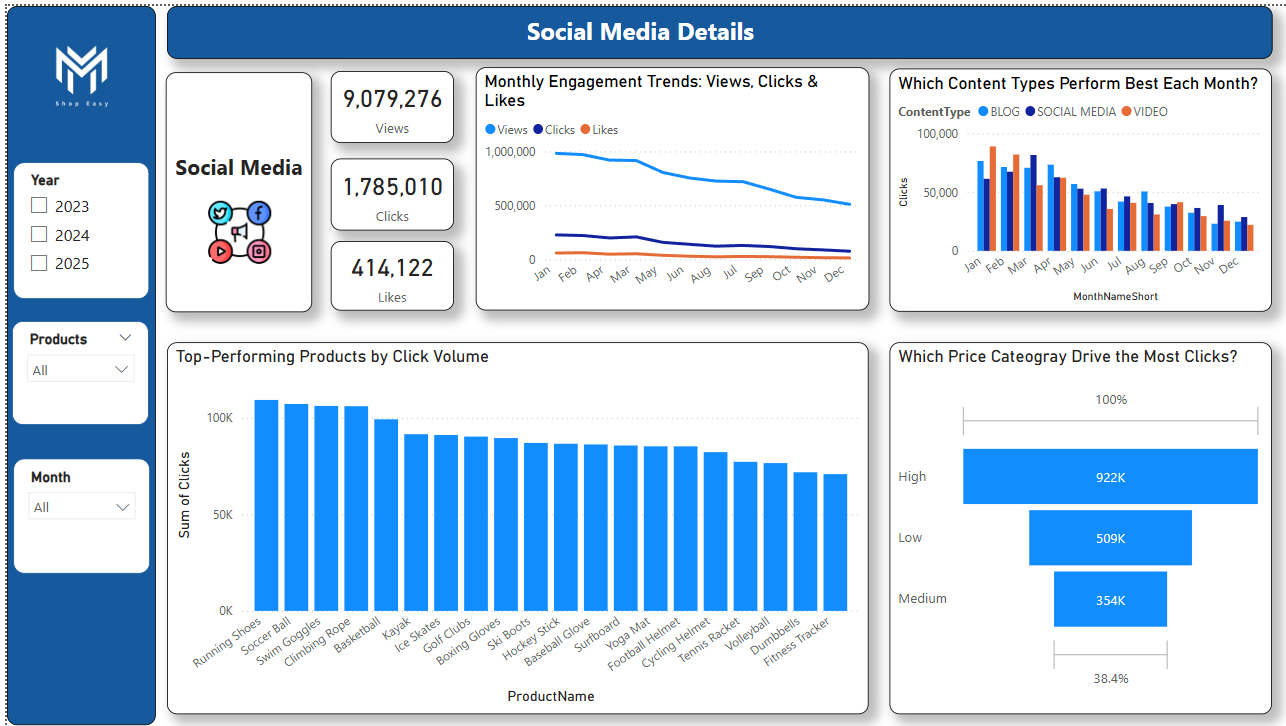

The page's visual inventory and layout, read from the dashboard file:
{"tool":"powerbi","page":{"name":"Social Media Details ","canvas":[1280,720],"ordinal":2},"visuals":[{"type":"textbox","box":[160.2,0,1105.4,52.6],"z":0},{"type":"lineChart","title":"Monthly Engagement Trends: Views, Clicks & Likes","fields":{"Category":["Calendar.MonthNameShort"],"Y":["Calculations.Views","Calculations.Clicks","Calculations.Likes"]},"box":[468.3,61.1,393.8,243.3],"z":1000},{"type":"card","fields":{"Values":["Calculations.Views"]},"box":[324.1,64.8,123.5,72.1],"z":2000},{"type":"textbox","box":[159,66,146.7,239.7],"z":3000},{"type":"card","fields":{"Values":["Calculations.Clicks"]},"box":[324.1,152.9,123.5,72.1],"z":4000},{"type":"card","fields":{"Values":["Calculations.Likes"]},"box":[324.1,234.8,123.5,69.7],"z":5000},{"type":"clusteredColumnChart","title":"Which Content Types Perform Best Each Month?","fields":{"Category":["Calendar.MonthNameShort"],"Series":["Fact_engagement_data.ContentType"],"Y":["Calculations.Clicks"]},"box":[882.9,62.4,382.7,243.3],"z":6000},{"type":"funnel","title":"Which Price Cateogray Drive the Most Clicks?","fields":{"Category":["dim_products.PriceCategory"],"Y":["Sum(Fact_engagement_data.Clicks)"]},"box":[882.9,336.3,382.7,371.7],"z":7000},{"type":"clusteredColumnChart","title":"Top-Performing Products by Click Volume","fields":{"Category":["dim_products.ProductName"],"Y":["Sum(Fact_engagement_data.Clicks)"]},"box":[160.2,336.3,701.9,371.7],"z":8000},{"type":"textbox","box":[0,0,149.2,719],"z":9000},{"type":"slicer","fields":{"Values":["Calendar.Year"]},"box":[6.1,156.5,135.7,137],"z":10000},{"type":"slicer","fields":{"Values":["dim_products.ProductName"]},"box":[4.9,315.5,137,103.9],"z":11000},{"type":"image","box":[0,0,149.2,137],"z":12000},{"type":"slicer","fields":{"Values":["Calendar.MonthNameShort"]},"box":[6.1,452.4,137,114.9],"z":13000},{"type":"image","box":[195.7,189.5,73.4,73.4],"z":14000}]}

Visuals, with their boxes in screenshot pixels (x1, y1, x2, y2), scaled from the page's 1280x720 canvas onto the 1286x726 screenshot:
textbox: {"x1": 161, "y1": 0, "x2": 1272, "y2": 53}
"Monthly Engagement Trends: Views, Clicks & Likes" lineChart: {"x1": 470, "y1": 62, "x2": 866, "y2": 307}
card - Calculations.Views: {"x1": 326, "y1": 65, "x2": 450, "y2": 138}
textbox: {"x1": 160, "y1": 67, "x2": 307, "y2": 308}
card - Calculations.Clicks: {"x1": 326, "y1": 154, "x2": 450, "y2": 227}
card - Calculations.Likes: {"x1": 326, "y1": 237, "x2": 450, "y2": 307}
"Which Content Types Perform Best Each Month?" clusteredColumnChart: {"x1": 887, "y1": 63, "x2": 1272, "y2": 308}
"Which Price Cateogray Drive the Most Clicks?" funnel: {"x1": 887, "y1": 339, "x2": 1272, "y2": 714}
"Top-Performing Products by Click Volume" clusteredColumnChart: {"x1": 161, "y1": 339, "x2": 866, "y2": 714}
textbox: {"x1": 0, "y1": 0, "x2": 150, "y2": 725}
slicer - Calendar.Year: {"x1": 6, "y1": 158, "x2": 142, "y2": 296}
slicer - dim_products.ProductName: {"x1": 5, "y1": 318, "x2": 143, "y2": 423}
image: {"x1": 0, "y1": 0, "x2": 150, "y2": 138}
slicer - Calendar.MonthNameShort: {"x1": 6, "y1": 456, "x2": 144, "y2": 572}
image: {"x1": 197, "y1": 191, "x2": 270, "y2": 265}
